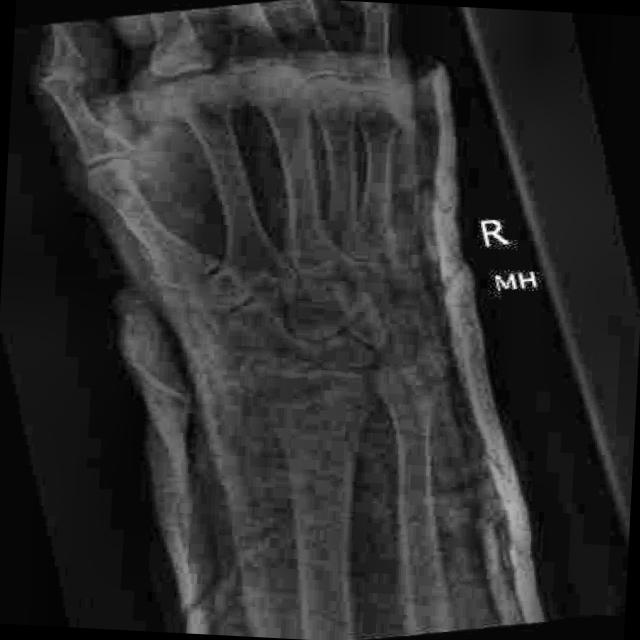wrist positive: (381, 328, 468, 415), (246, 368, 380, 422)
